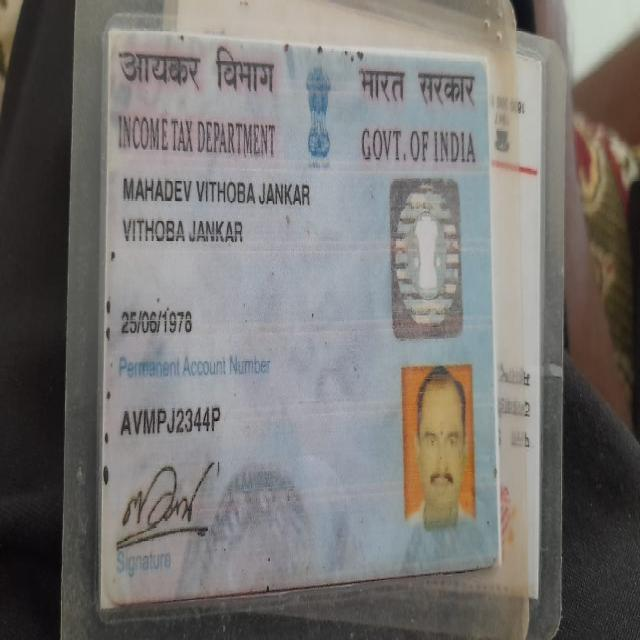pan_card: (102, 26, 499, 606)
